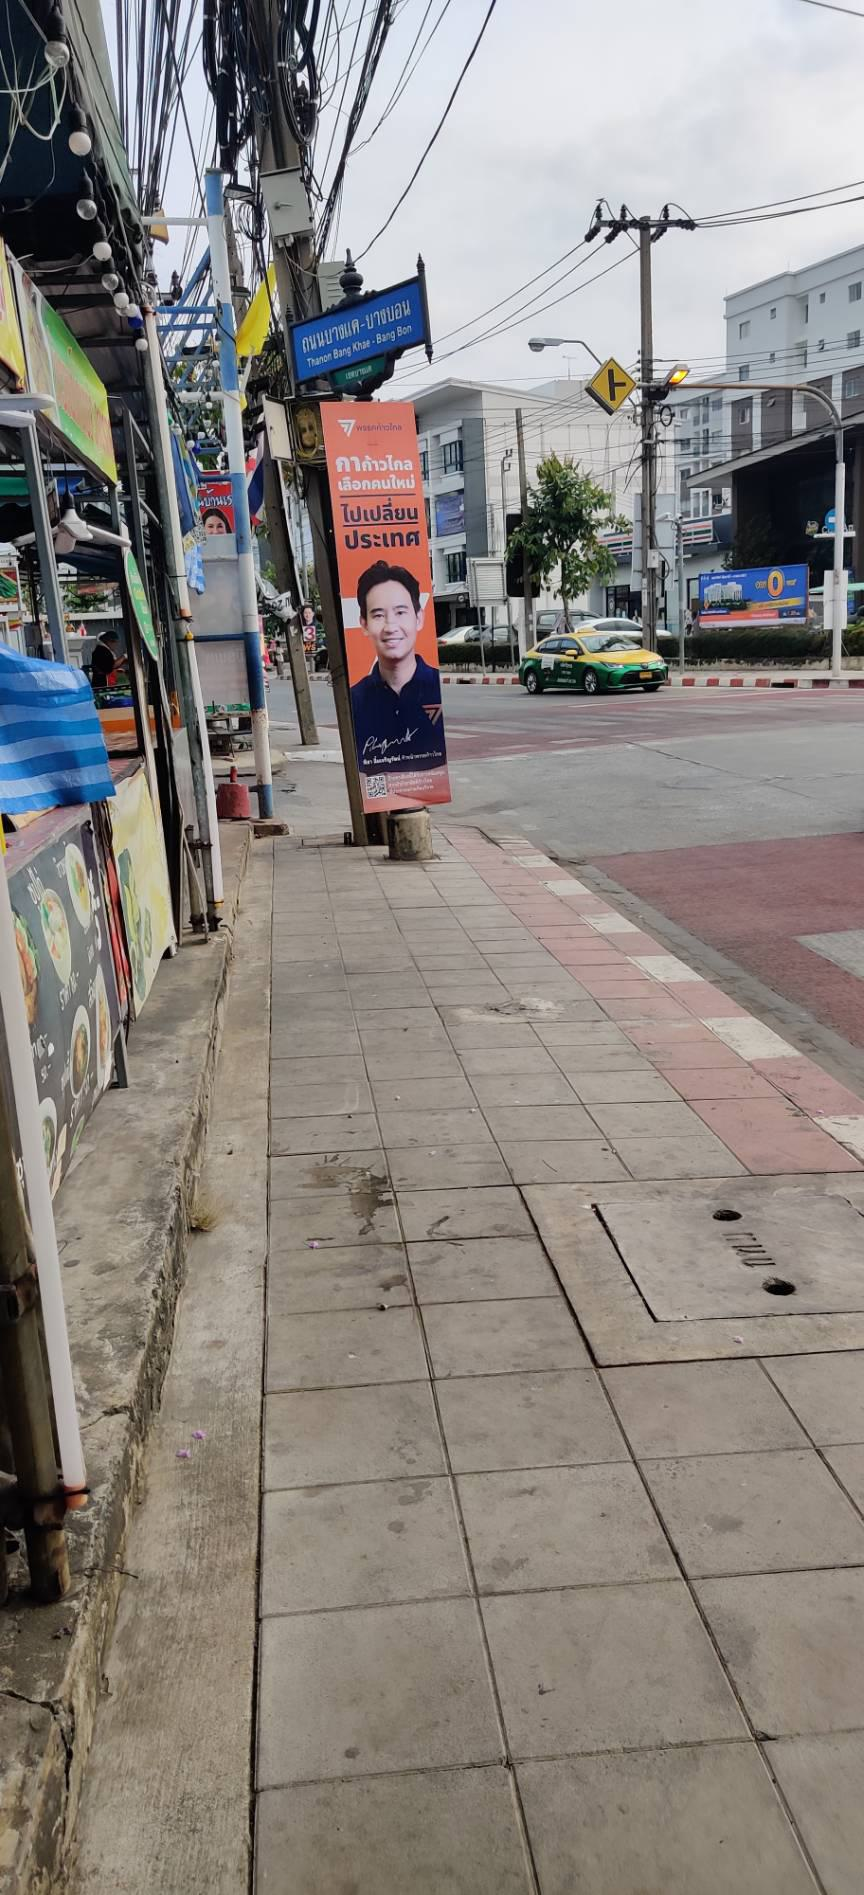Banner: (319, 396, 450, 816)
